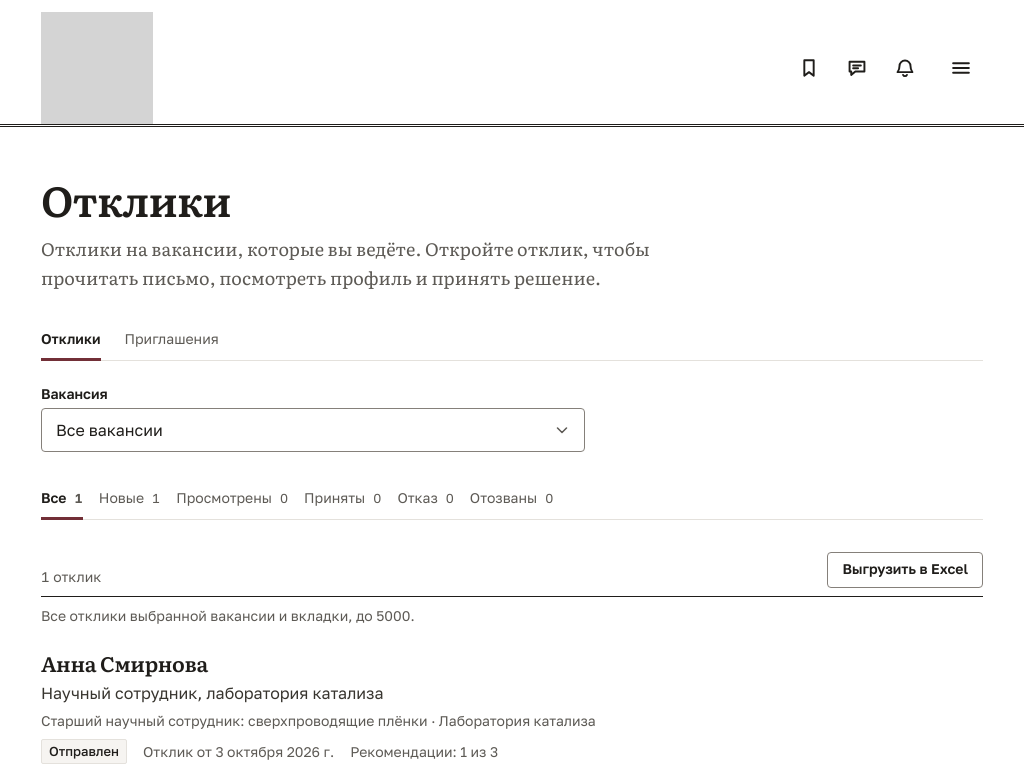
Test: candidates list › export to a file › tells about the limit of exports and about any other failure, and saves nothing
Step 1. Click the button "Выгрузить в Excel" → (905, 570), box [828,552,983,588]
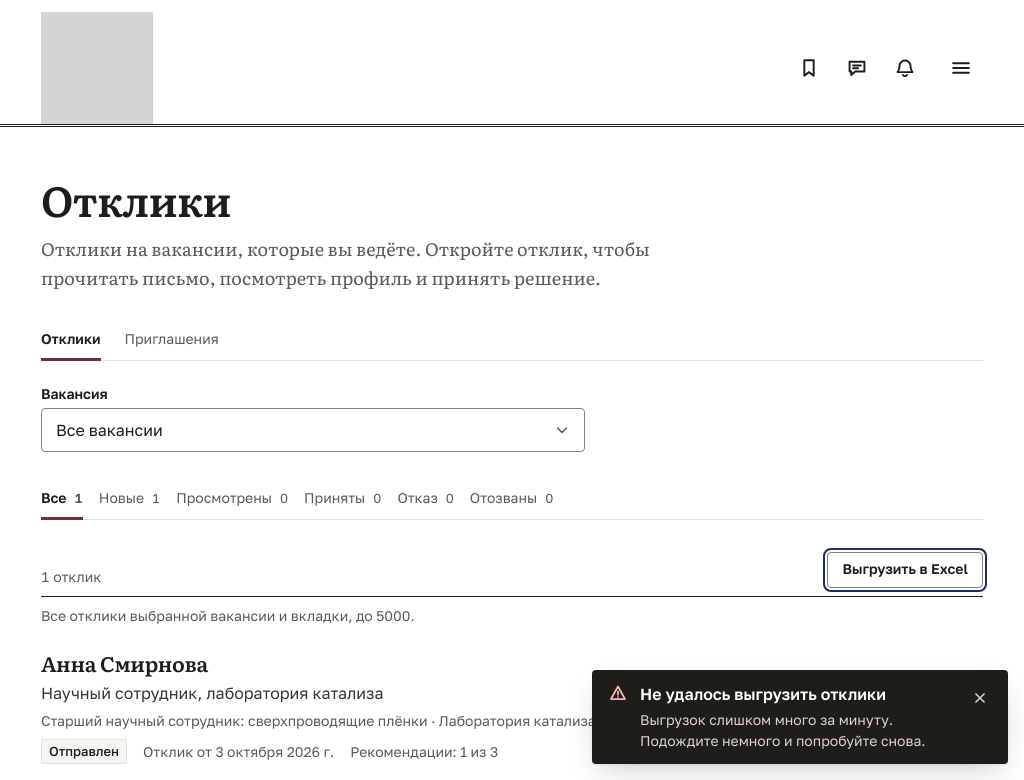
Result: the text "Не удалось выгрузить отклики" is shown at [640,684,886,704]
Result: the text "Выгрузок слишком много за минуту. Подождите немного и попробуйте снова." is shown at [640,709,952,752]
